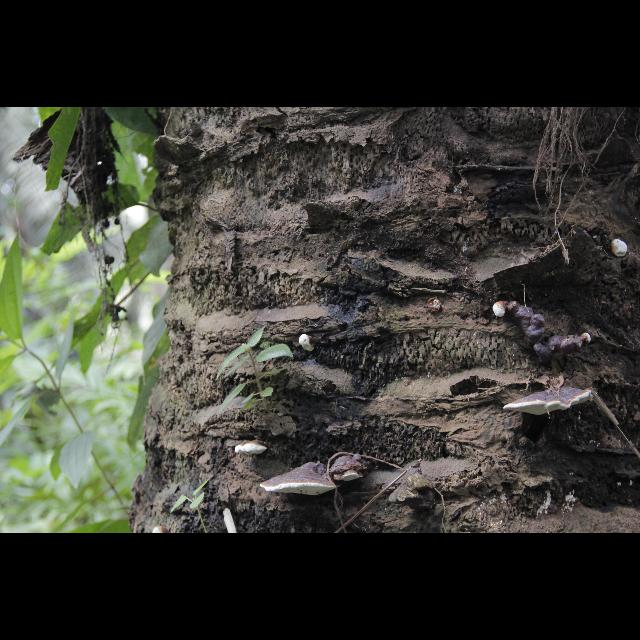ganoderma: (511, 302, 582, 364), (504, 387, 595, 417), (261, 463, 340, 497), (328, 455, 374, 484), (236, 441, 271, 457)
primordium: (612, 240, 629, 258), (300, 335, 316, 353), (494, 302, 510, 319), (583, 334, 592, 346)
